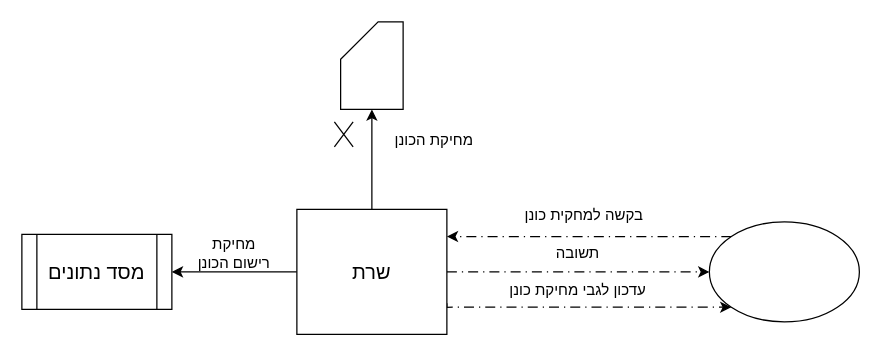
The diagram is 881 pixels wide and 356 high, and some of its shapes have lost their labels. Each missing label, with the box of its shape:
כונן: (339, 21, 403, 109)
לקוח: (708, 221, 859, 322)
